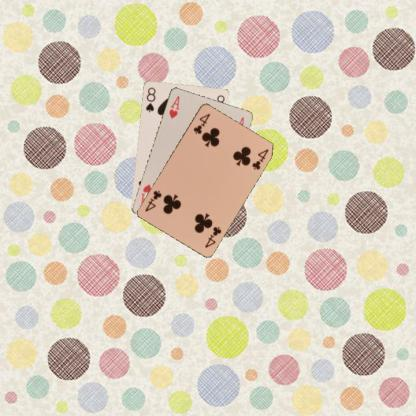4c: (190, 110, 212, 136), (201, 224, 222, 249)
8s: (143, 84, 157, 113)
Ah: (166, 93, 181, 119)
